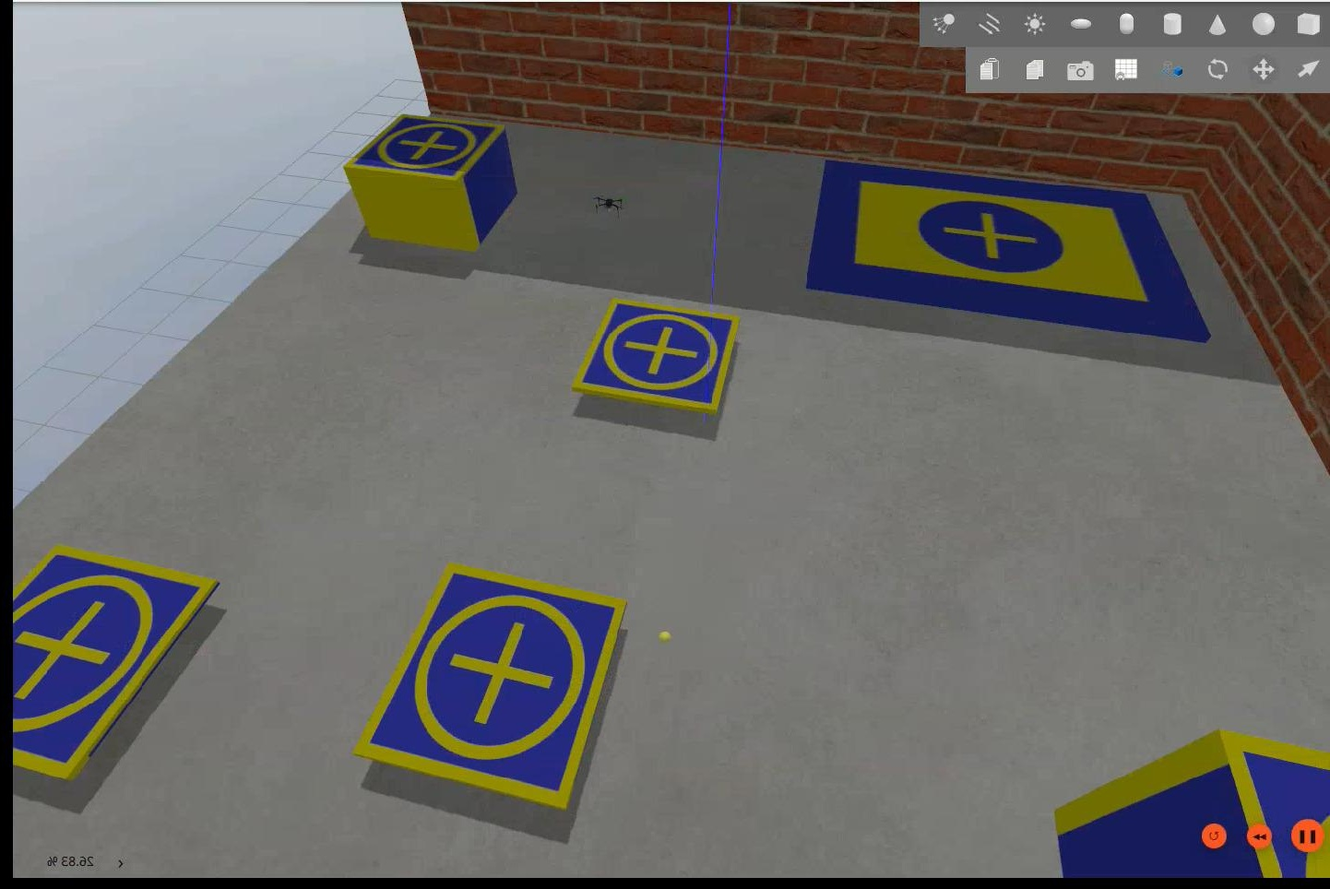large_base: (800, 161, 1208, 345)
small_base: (350, 564, 619, 812), (6, 546, 220, 786), (1203, 727, 1328, 889), (569, 299, 739, 413), (343, 114, 505, 185)
